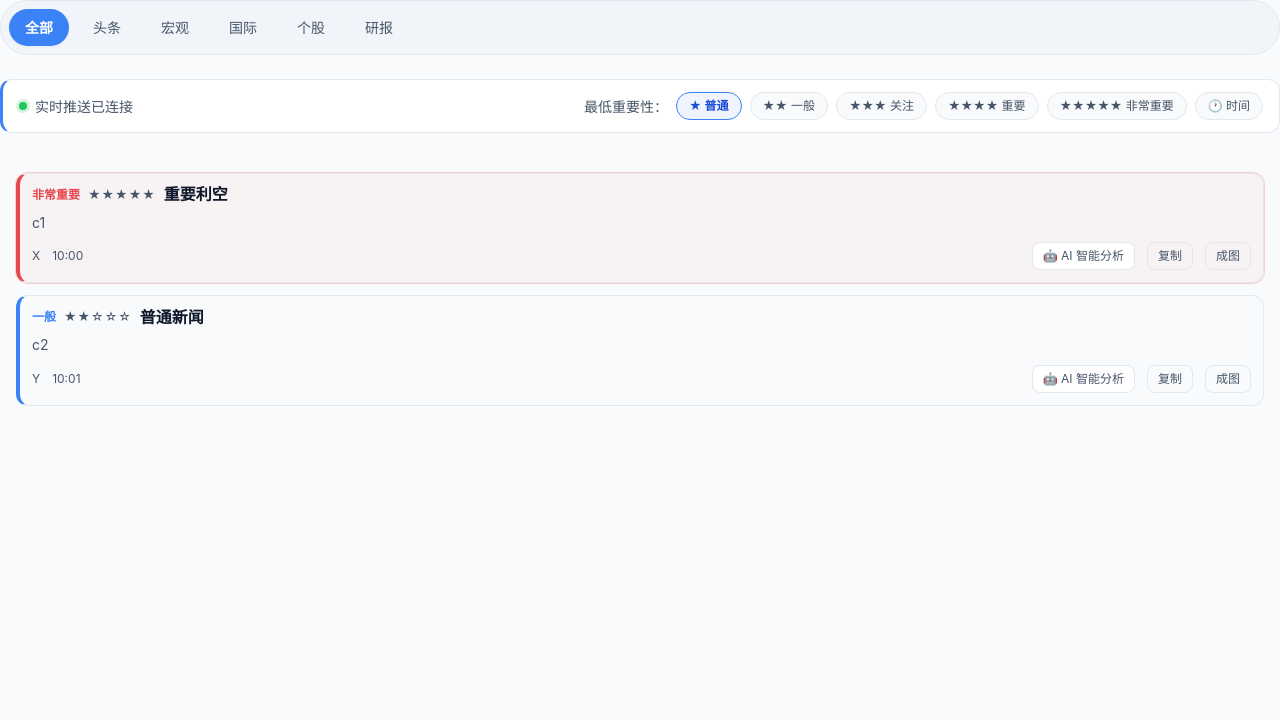
Test case: NewsView (F2-8 §9.9) › expands analysis inline inside the news card (not bottom panel)
Click the button with class "news-ai-btn" in the row of "10:00" at (1083, 256), box [1032,242,1135,270]
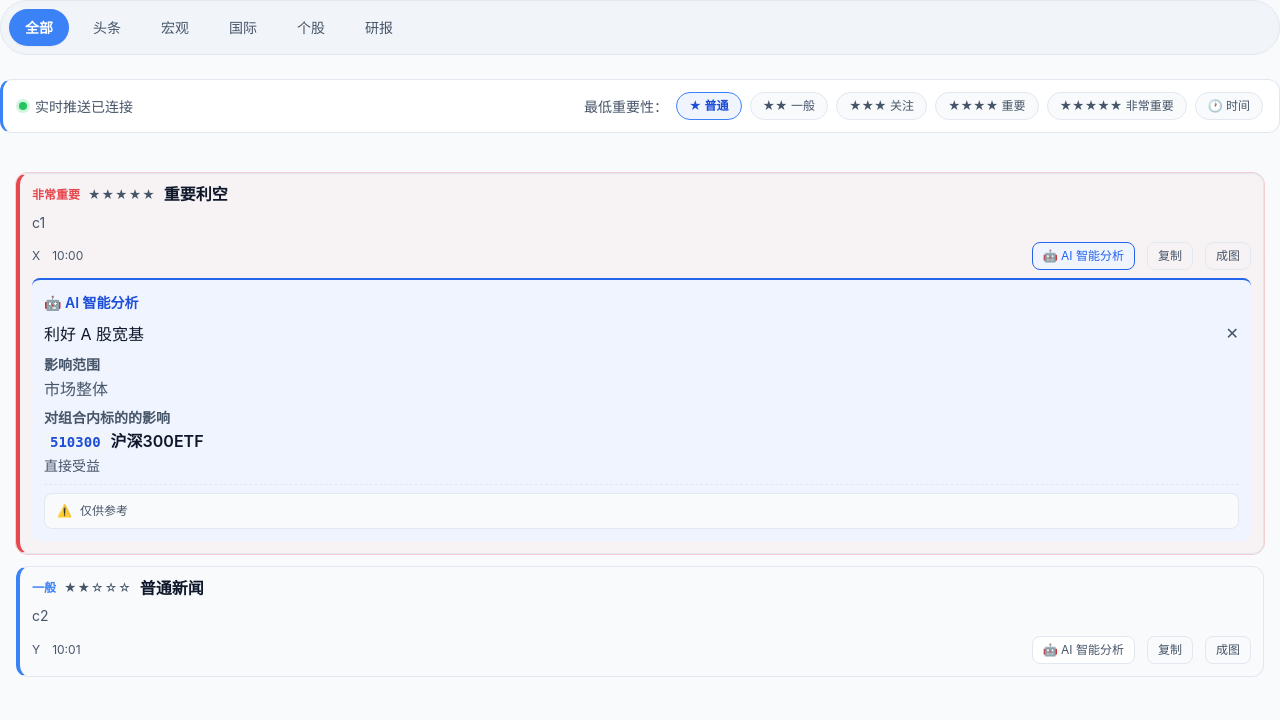
Expected: the element with class "impact-inline" is shown, [32,278,1251,541]
Expected: the text "利好 A 股宽基" is shown, [44,324,144,344]
Expected: the text "510300" is shown, [44,432,107,452]
